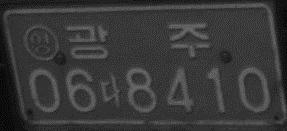0: (27, 67, 61, 113), (237, 67, 271, 113)
1: (200, 67, 232, 113)
4: (166, 67, 194, 112)
6: (64, 68, 96, 114)
8: (124, 67, 156, 113)
광주_D: (64, 22, 211, 60)
다: (100, 73, 122, 106)
영: (22, 24, 58, 61)
